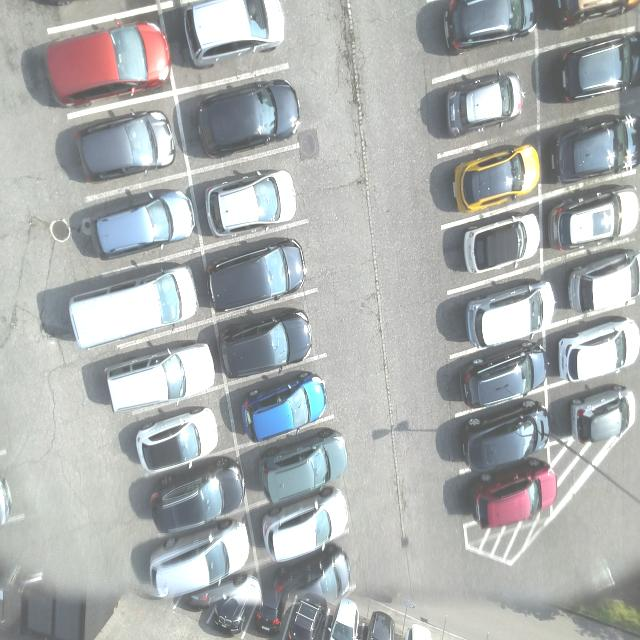car: (44, 18, 176, 112), (69, 263, 201, 353), (195, 69, 305, 162), (205, 233, 310, 318), (88, 185, 197, 264), (105, 343, 219, 417), (146, 520, 252, 599), (75, 108, 177, 190), (144, 458, 247, 539), (179, 1, 289, 76), (448, 342, 548, 421), (455, 401, 554, 480), (258, 426, 350, 509), (461, 277, 556, 357), (203, 167, 300, 243), (223, 304, 316, 382), (260, 488, 353, 566), (454, 142, 544, 222), (467, 458, 559, 532), (551, 113, 640, 187), (550, 186, 640, 257), (555, 312, 640, 387), (441, 69, 527, 142), (242, 373, 329, 445), (553, 34, 640, 106), (133, 406, 219, 476), (440, 1, 540, 61), (457, 211, 544, 277), (564, 252, 640, 324), (566, 386, 639, 443)
